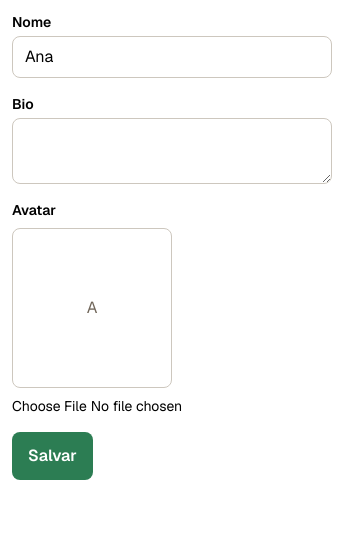
it: AuthorForm › erro de negócio no submit (409): mostra a mensagem da API
Click the button "Salvar" at (52, 456), box [12,432,93,480]
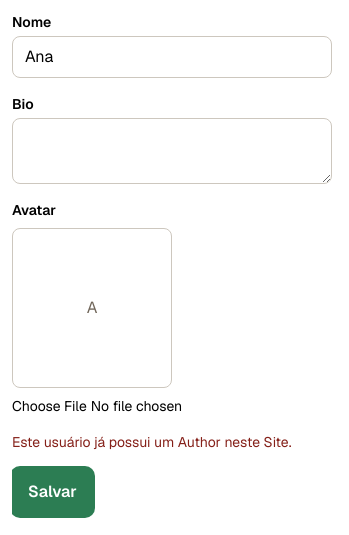
Expected: the text "Este usuário já possui um Author neste Site." is shown, [12,432,332,452]
